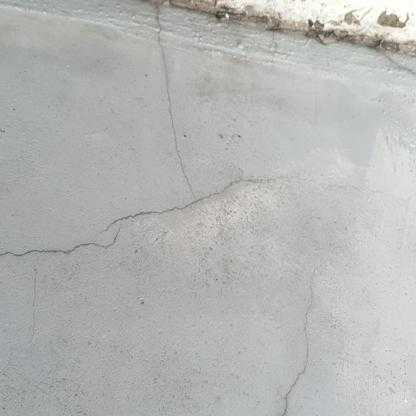crack: (103, 16, 297, 234), (281, 283, 315, 414), (2, 230, 120, 259)
